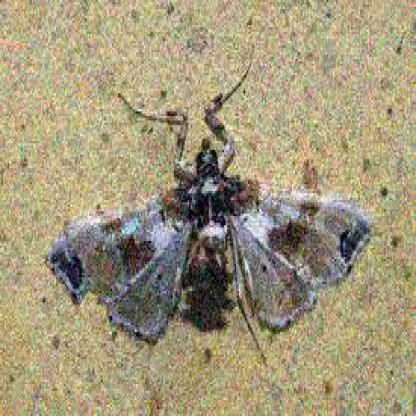leucinodes: (46, 118, 373, 346)
